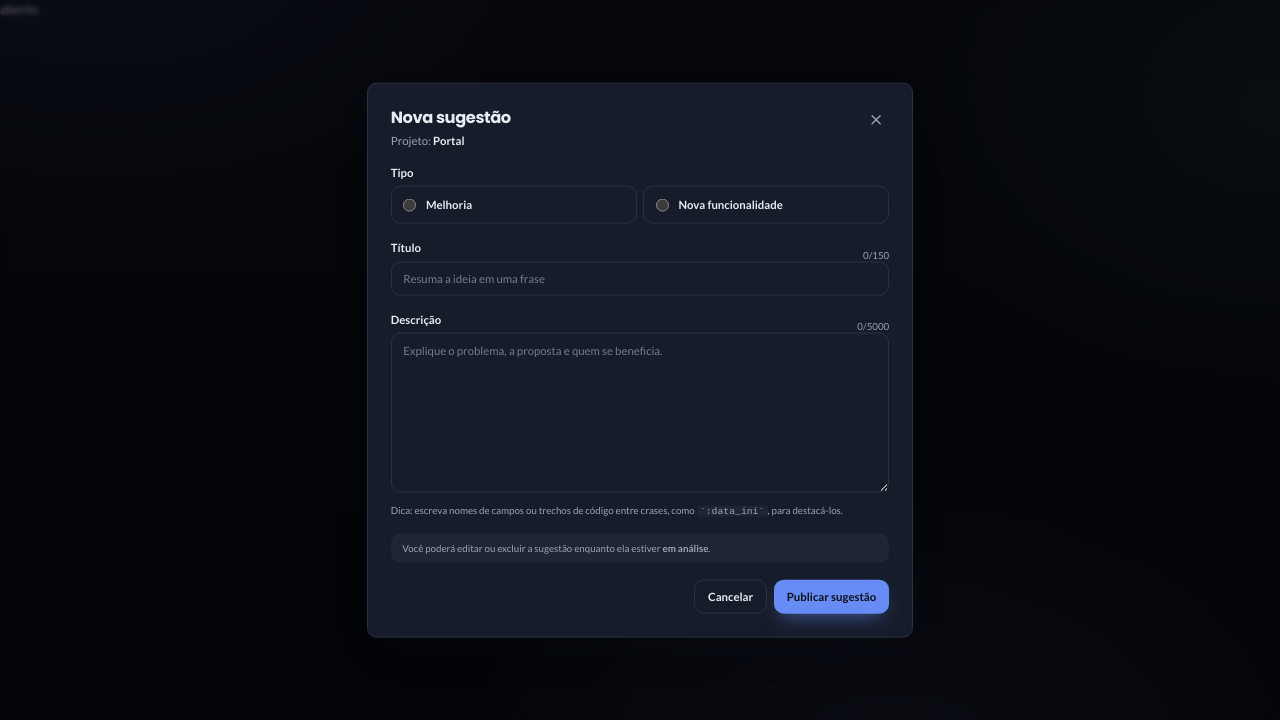
it: Nova sugestão: proteção contra perder o que foi digitado › escolher só o tipo também conta como alteração
Click the radio button labelled "Melhoria" at (410, 205), box [403,198,416,211]
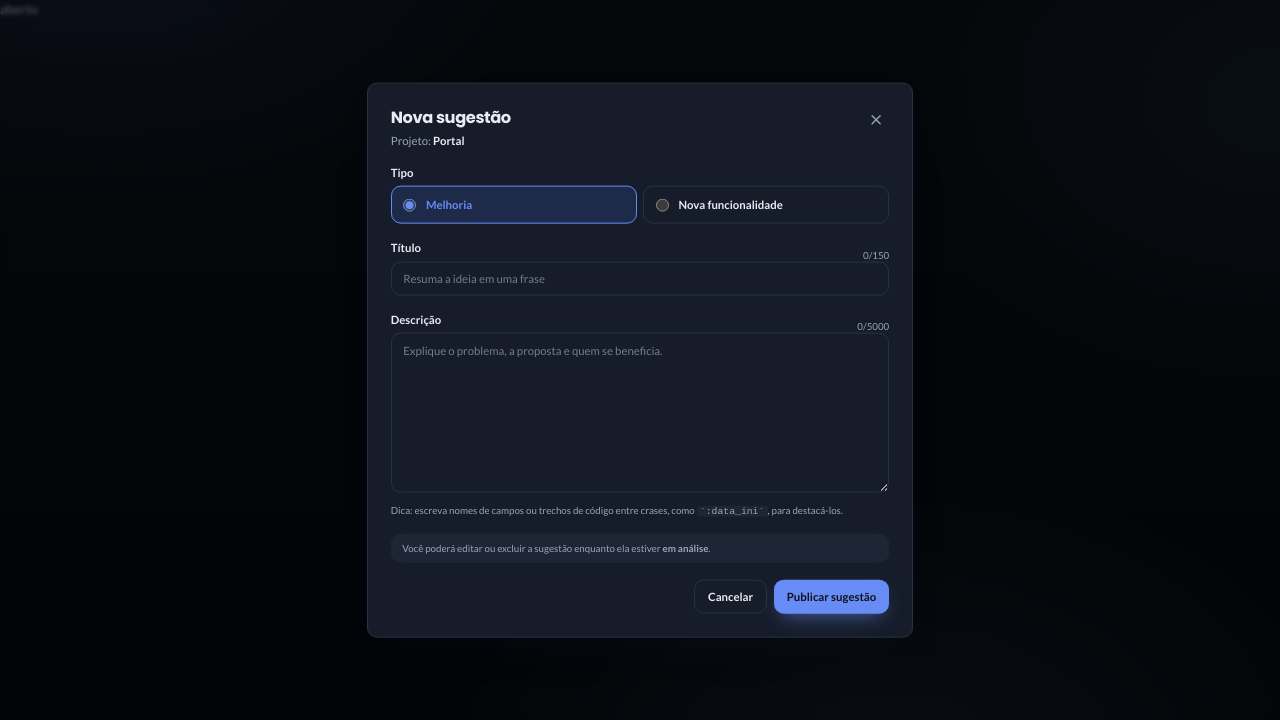
Click the button named "Fechar" at (876, 119), box [863,106,889,132]
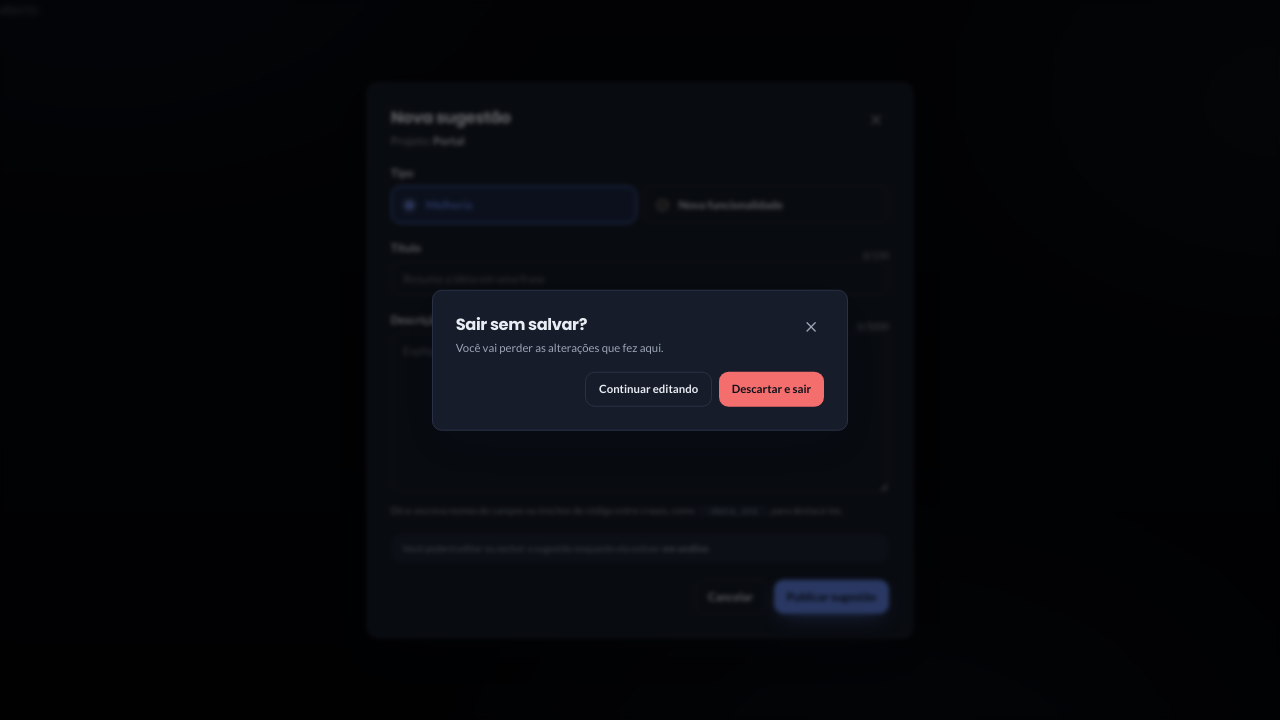
Result: the dialog "Sair sem salvar?" is shown at [432,290,848,430]
